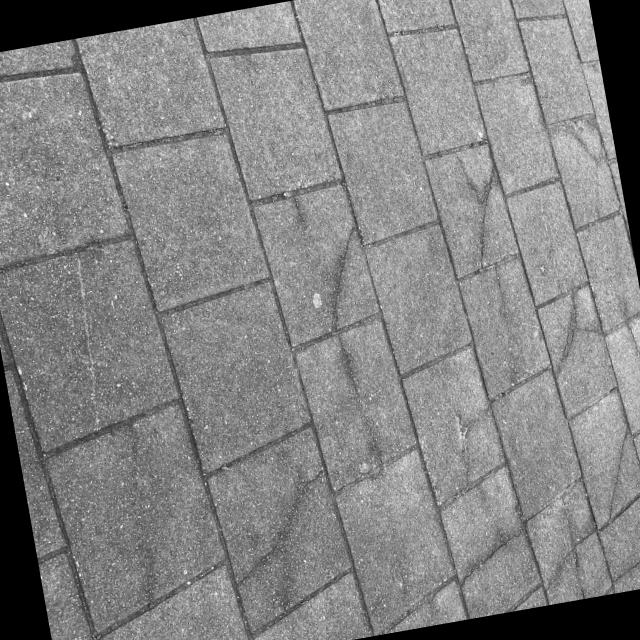pavement: (124, 0, 640, 409), (281, 409, 640, 640)
weedling: (278, 519, 289, 542), (434, 430, 442, 442), (320, 438, 327, 448), (420, 382, 426, 388)
